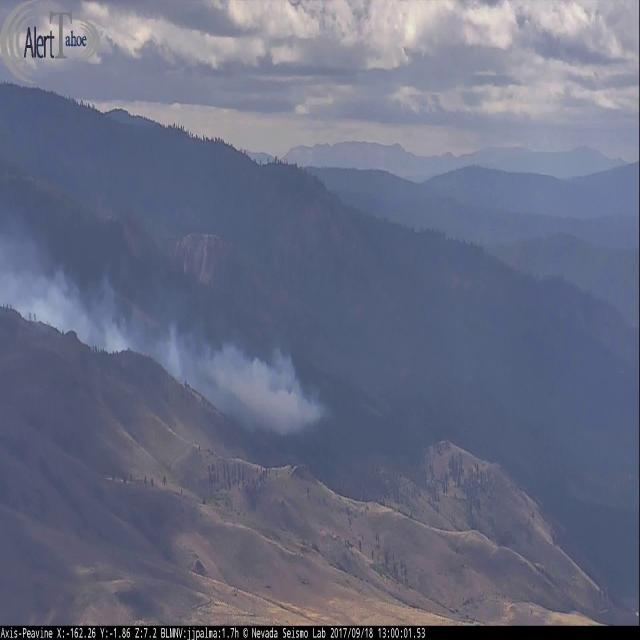smoke: (0, 220, 346, 453)
